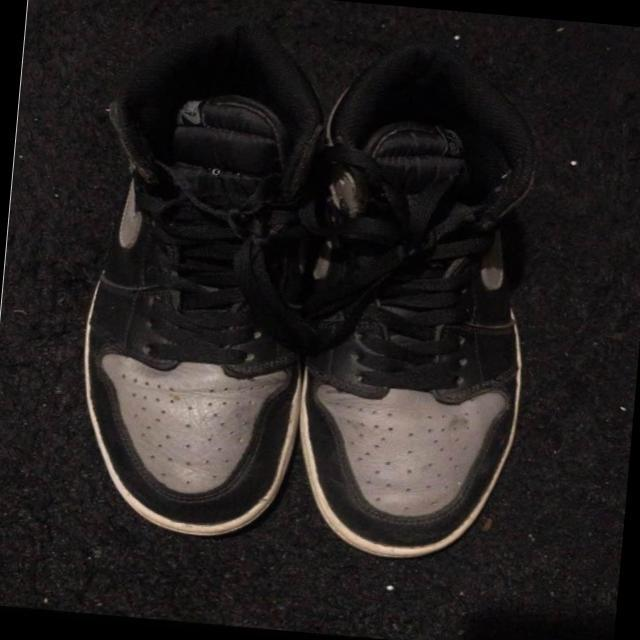nike fake jordan 1: (53, 14, 334, 548), (282, 40, 550, 572)
